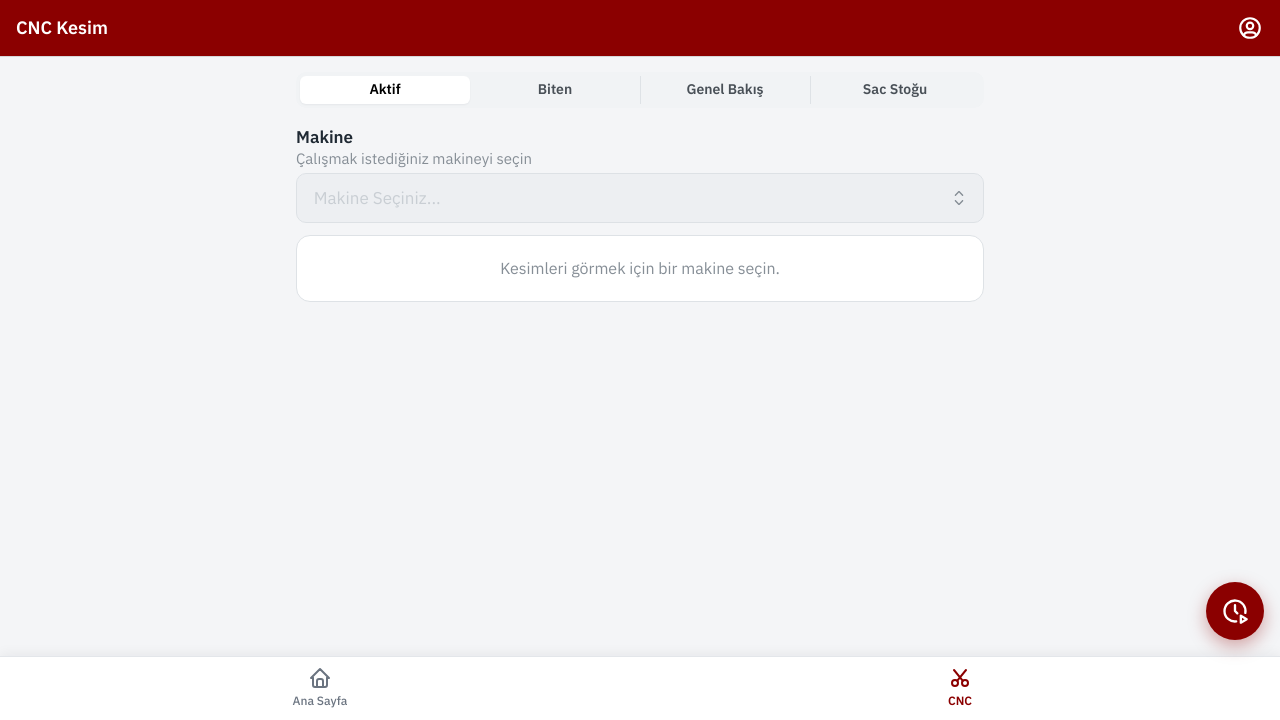
Test: cnc page › searches plate stock and shows each sheet’s state
The width and height of the screenshot is (1280, 720).
Click the text "Sac Stoğu" at [895, 89], box [863,80,927,98]
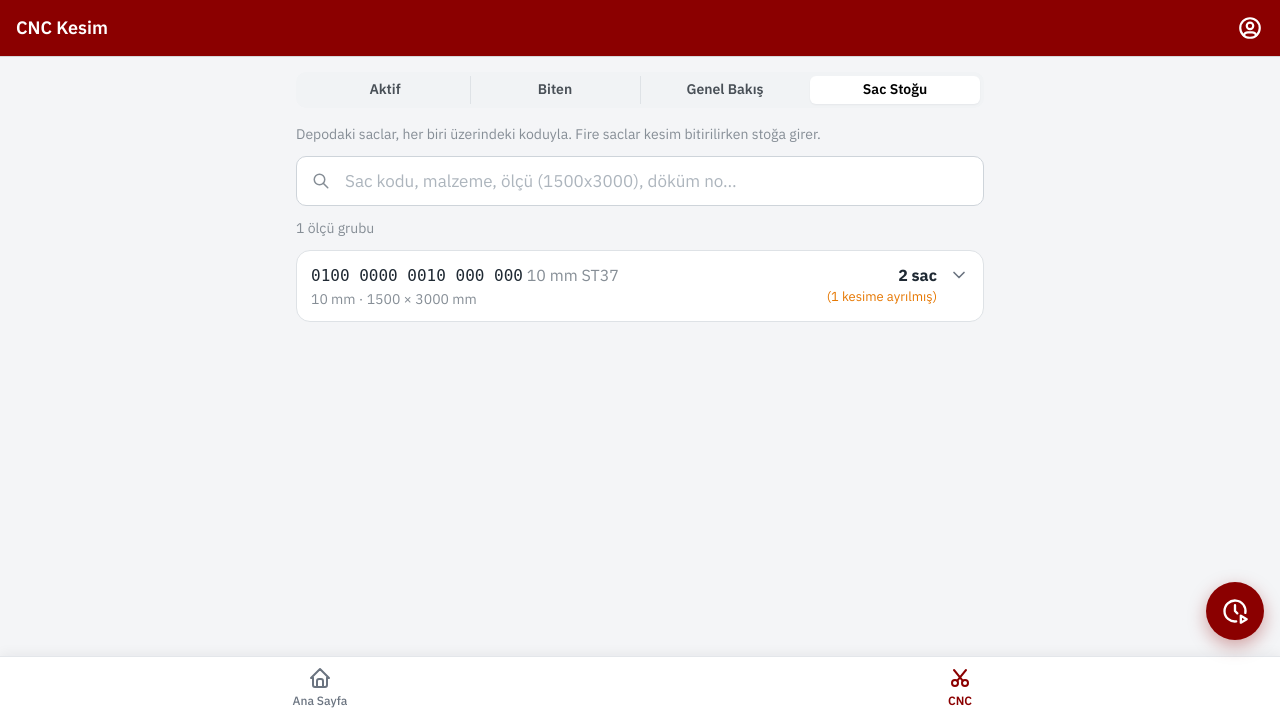
Expected: the text "2 sac" is shown, [898,265,937,285]
Expected: the text "(1 kesime ayrılmış)" is shown, [827,288,937,306]
Type "s26 12" into the search field named "Sac ara" at [640, 181], box [296,156,984,206]
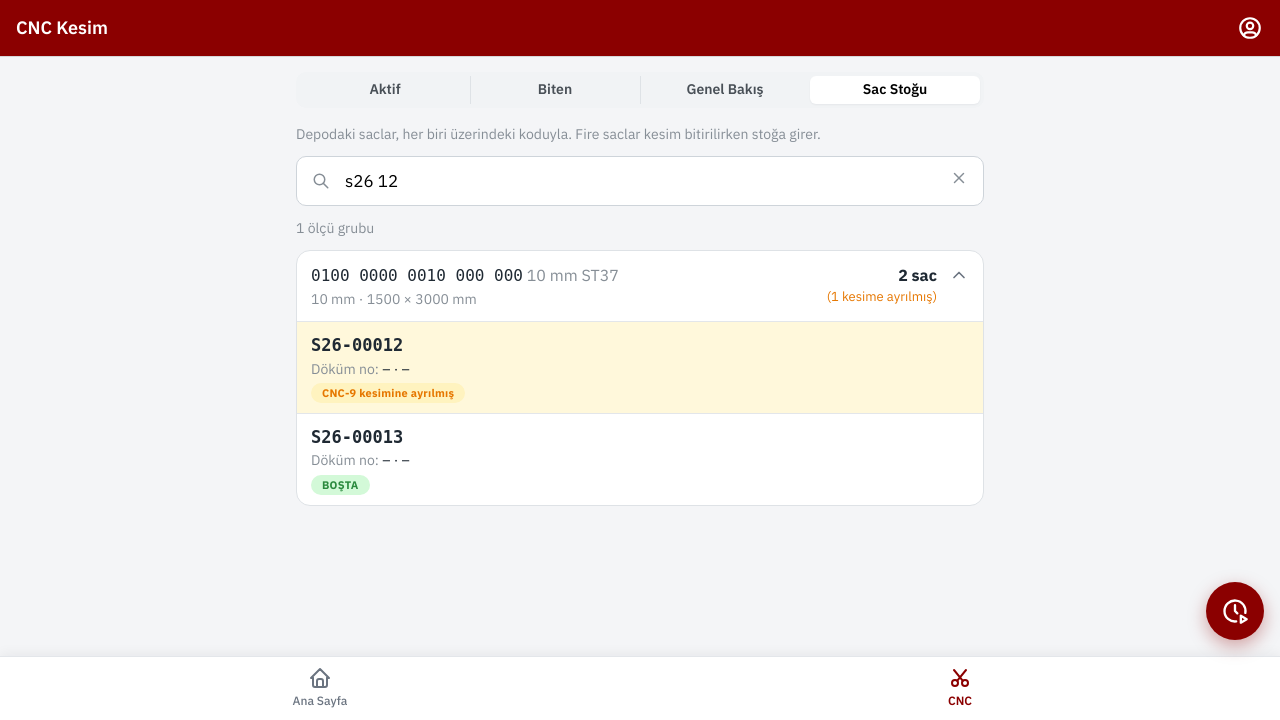
Expected: the text "CNC-9 kesimine ayrılmış" is shown, [322,384,454,402]
Expected: the text "Boşta" is shown, [322,476,359,494]
